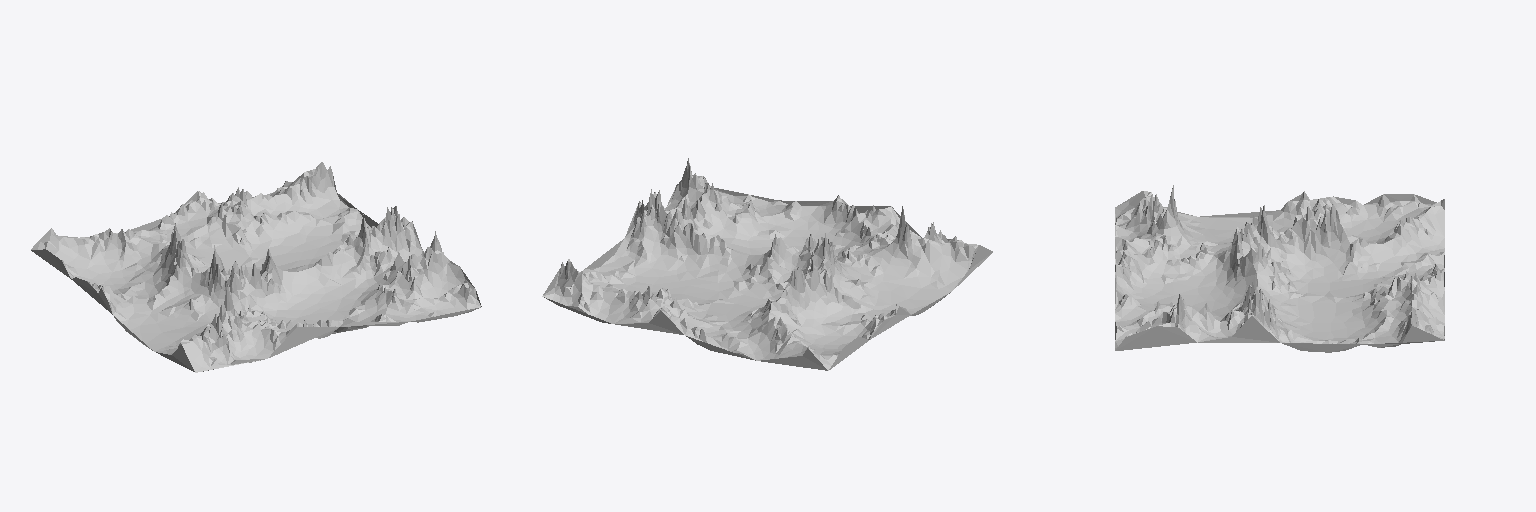
The model's file is mountains.obj.
The picture shows the model from 3 angles: view 1: azimuth 30°, elevation 25°; view 2: azimuth 150°, elevation 25°; view 3: azimuth 270°, elevation 25°; orthographic projection.
Parts seen in each view (by area): view 1: mountains; view 2: mountains; view 3: mountains.
Boxes of the visible parts, x1=… form: mountains: x1=31, y1=162, x2=481, y2=372; mountains: x1=542, y1=158, x2=992, y2=370; mountains: x1=1115, y1=185, x2=1444, y2=352.
Size of the model in its own units: 160 by 34.19 by 160.